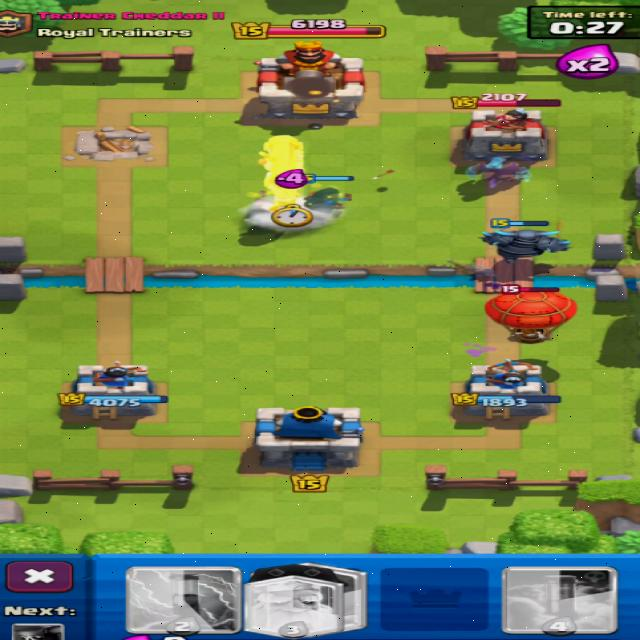Enemy-Balloon: (487, 289, 574, 340)
Enemy-KingTower-Activated: (258, 40, 364, 118)
Enemy-PrincessTower: (462, 107, 547, 161)
Player-Bandit: (305, 187, 349, 210)
Player-BattleRam: (259, 135, 303, 209)
Player-KingTower: (254, 405, 364, 469)
Player-PEKKA: (479, 228, 570, 262)
Player-PrincessTower: (451, 359, 559, 418), (59, 361, 168, 419)
Player-RoyalGhost-Minion-Invisible: (466, 157, 530, 189)
